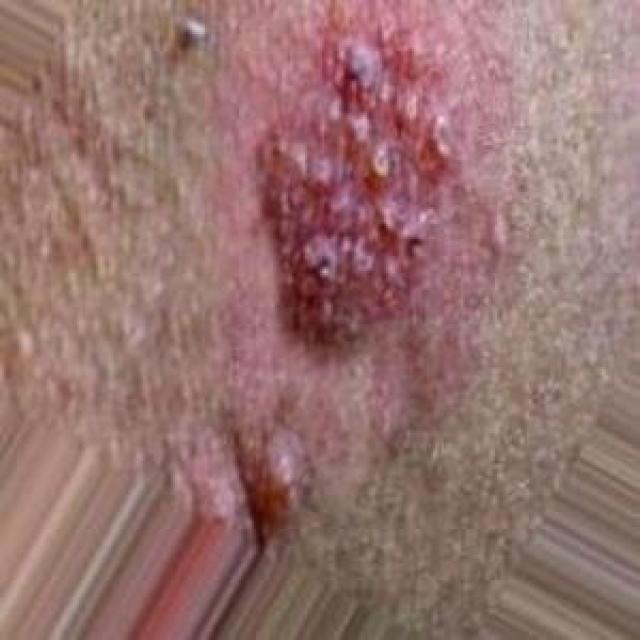Shingles: (254, 33, 453, 344)
